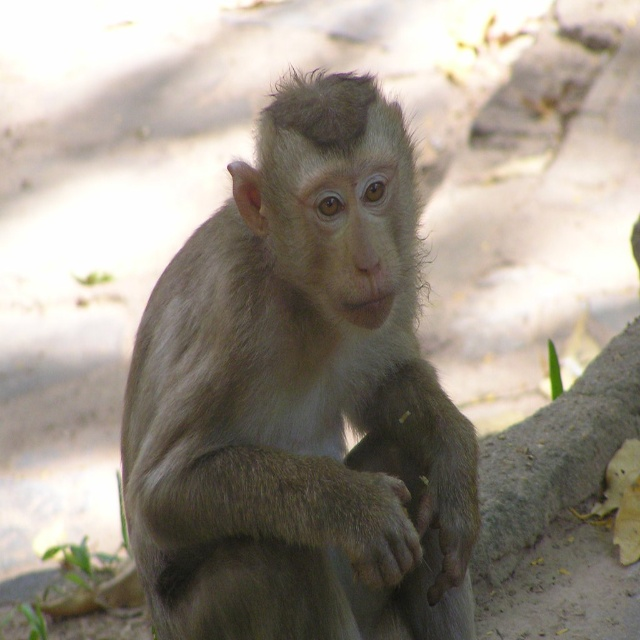Monkey: (121, 67, 480, 639)
